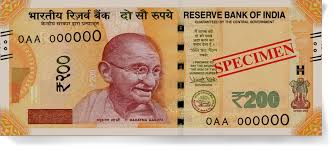twoHundred: (18, 25, 298, 118)
